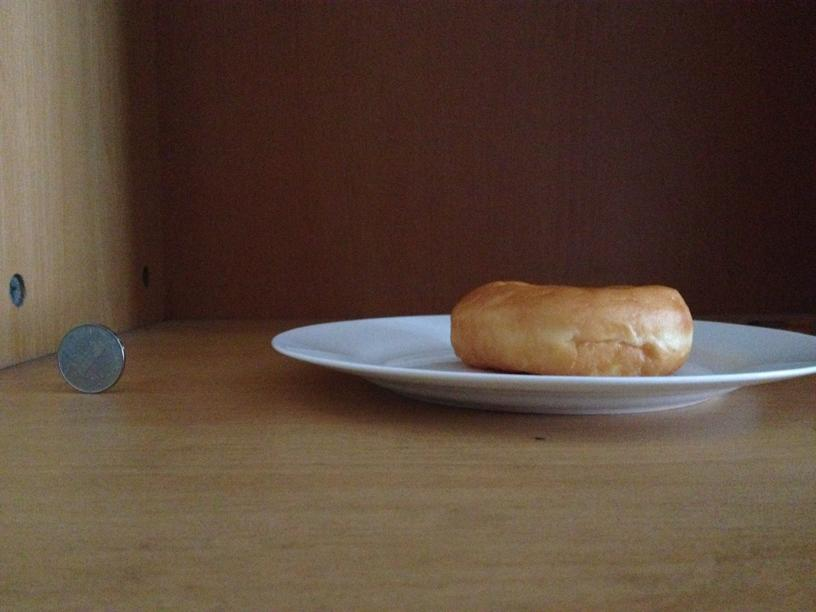coin: (447, 278, 692, 373)
doughnut: (447, 278, 692, 373)
